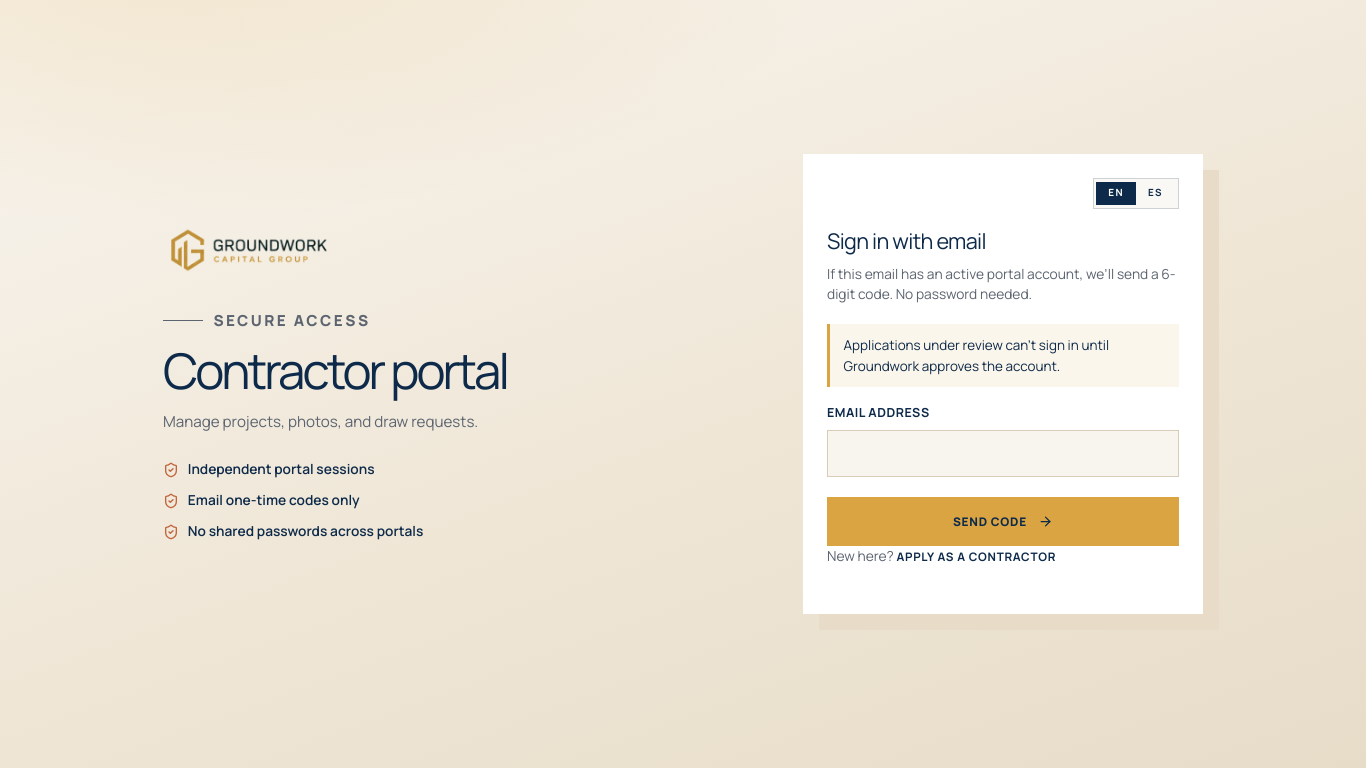
Test case: PortalLoginPage › requests a code for the right portal and advances to the code step
Step 1. Type "  ctr@example.com " into the field labelled "Email address" → x=1003, y=453, box [827,430,1179,477]
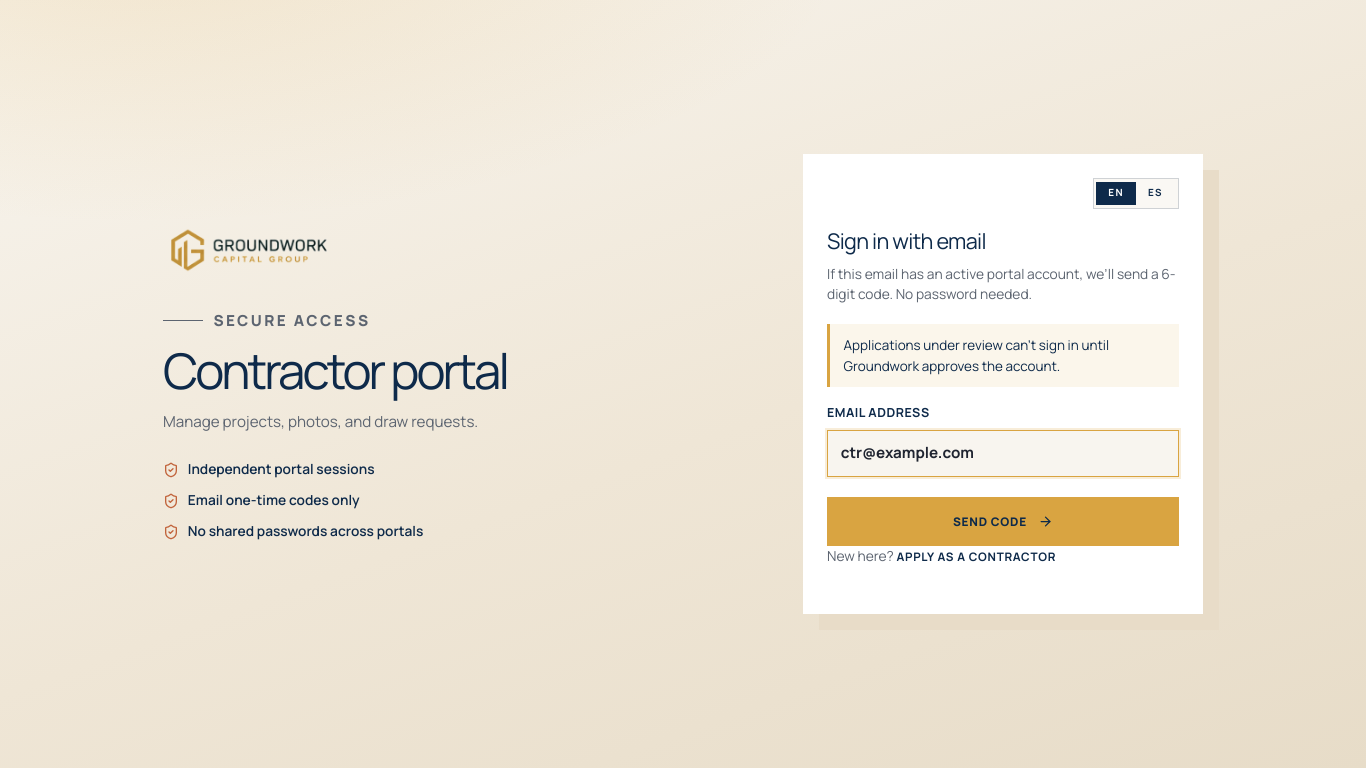
Step 2. Click the button "Send code" → x=1003, y=522, box [827,497,1179,546]
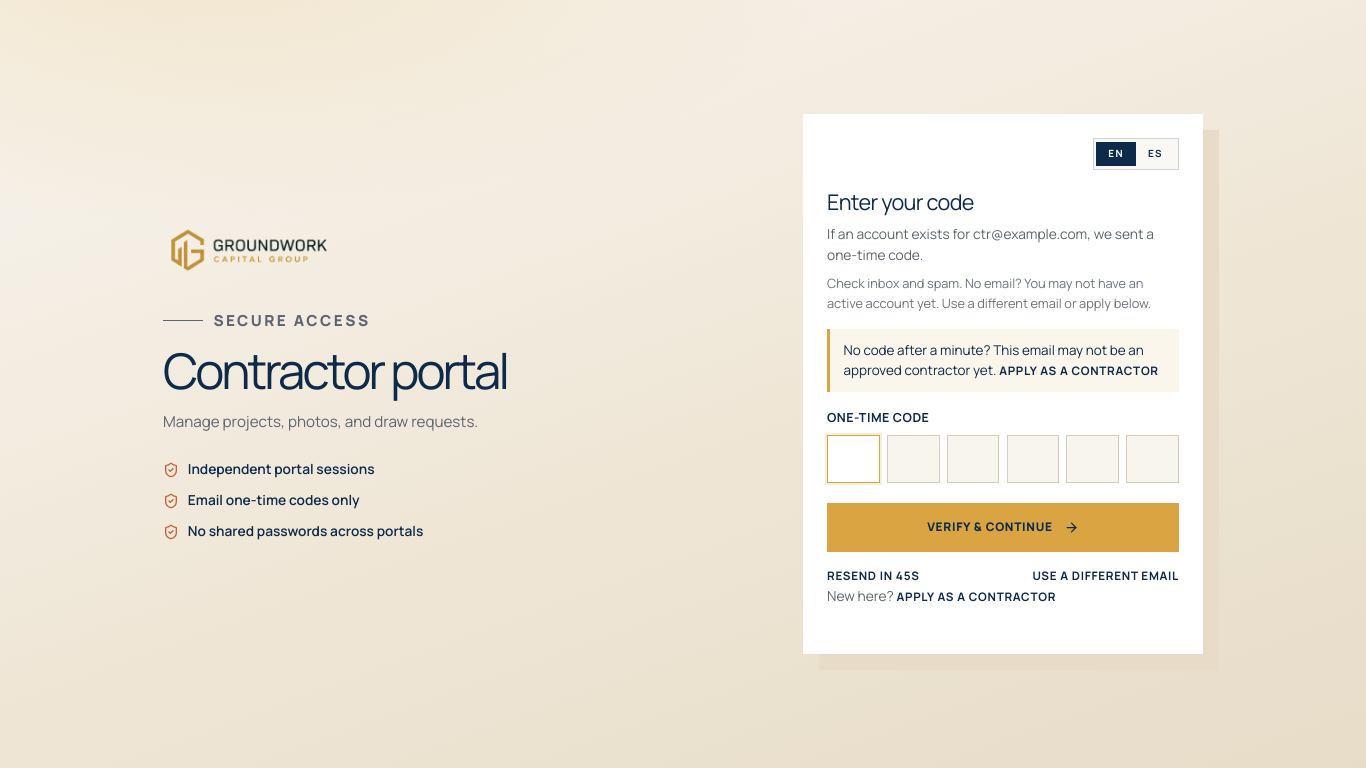
Check: the heading "Enter your code" is shown, box [827,187,974,216]
Check: the text "Check inbox and spam. No email? You may not have an active account yet. Use a different email or apply below." is shown, box [827,274,1151,312]
Check: the element "One-time code" is shown, box [827,410,1179,483]
